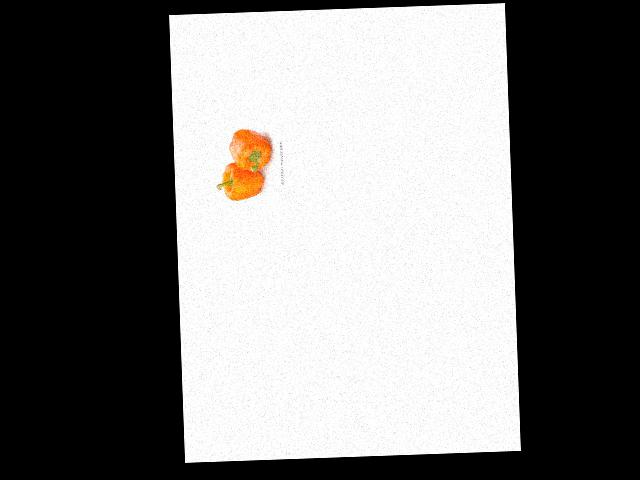bell_pepper: (227, 126, 276, 174)
